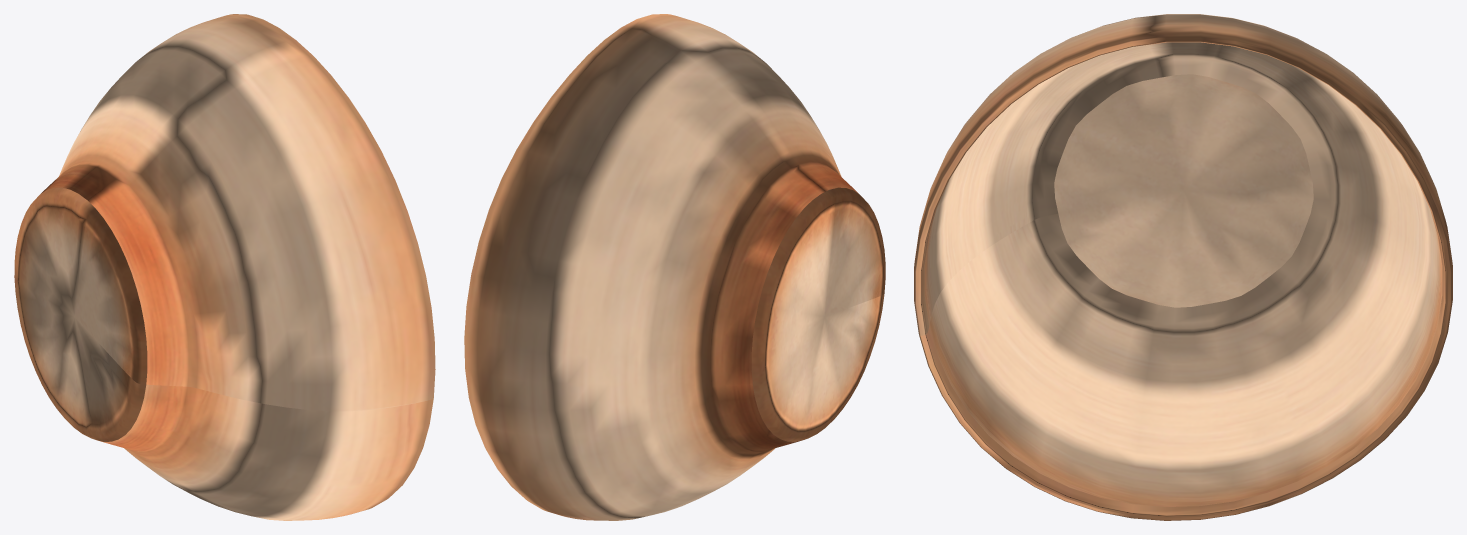
Rendered from plate_2.obj.
3 views of the same model, side by side, from view 1: azimuth 30°, elevation 25°; view 2: azimuth 150°, elevation 25°; view 3: azimuth 270°, elevation 25° (orthographic). The views are drawn at different scales.
Bounding box in the file's own units: 0.8288 × 1.57 × 1.58.
Materials: 1 (1 with a texture image).
